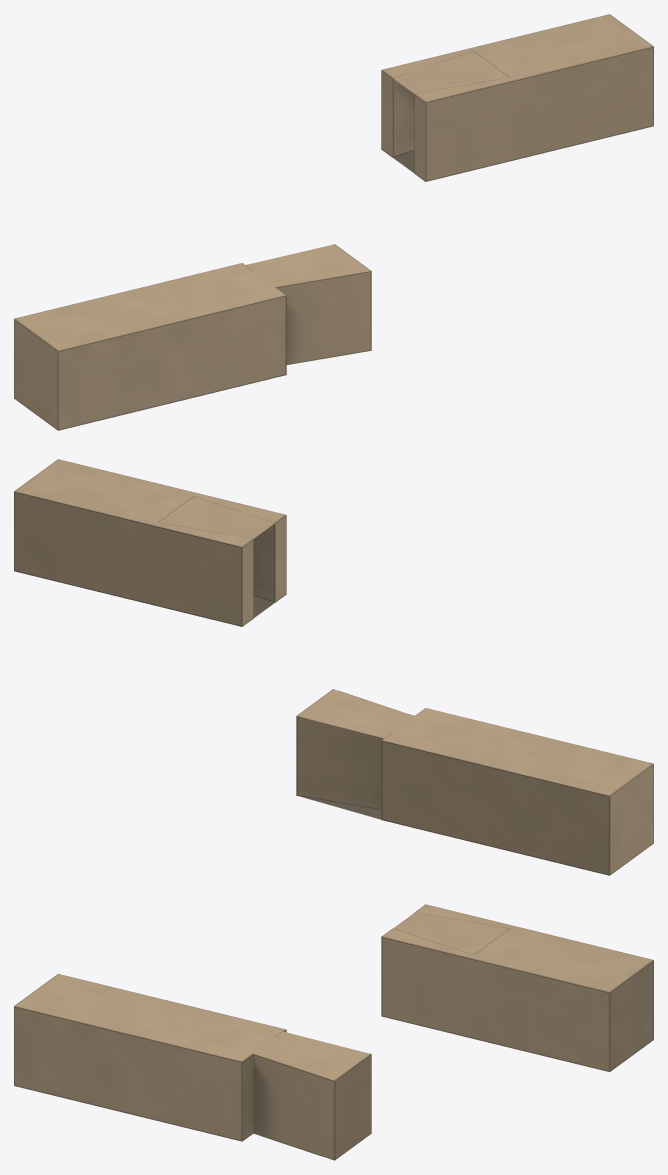
File: doutsuki-ari-tsugi.glb
3 renders of one model, top to bottom at view 1: azimuth 30°, elevation 25°; view 2: azimuth 150°, elevation 25°; view 3: azimuth 330°, elevation 25°, orthographic.
Visible parts, largest first — view 1: part-a, part-b; view 2: part-a, part-b; view 3: part-a, part-b.
Boxes of the visible parts, bbox=[...] form: part-a: bbox=[14, 244, 371, 430]; part-b: bbox=[381, 14, 653, 181]; part-a: bbox=[296, 689, 653, 875]; part-b: bbox=[14, 459, 286, 626]; part-a: bbox=[14, 974, 371, 1160]; part-b: bbox=[381, 904, 653, 1071].
Size of the model in its own units: 0.9408 by 0.3608 by 0.1208.
